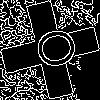O: (25, 25, 79, 74)
